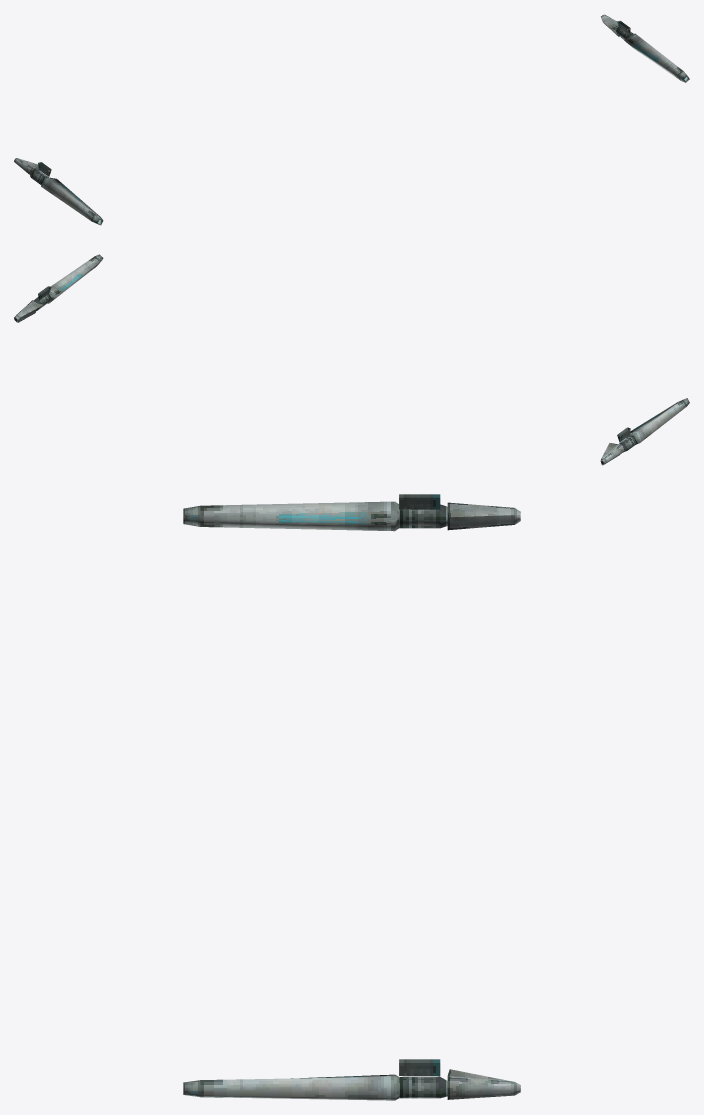
The model's file is hutt_fighter_heavy_weapon2_s02_l2.fbx.
3 views of the same model, one above another, from view 1: azimuth 30°, elevation 25°; view 2: azimuth 150°, elevation 25°; view 3: azimuth 270°, elevation 25° (orthographic). The views are drawn at different scales.
Parts seen in each view (by area): view 1: mesh_node; view 2: mesh_node; view 3: mesh_node.
Part boxes in pixels (bbox=[...]): mesh_node: bbox=[14, 14, 689, 225]; mesh_node: bbox=[14, 254, 689, 465]; mesh_node: bbox=[183, 494, 520, 1100].
Bounding box in the file's own units: 26.56 × 0.7902 × 6.48.
Materials: 1 (1 with a texture image).
